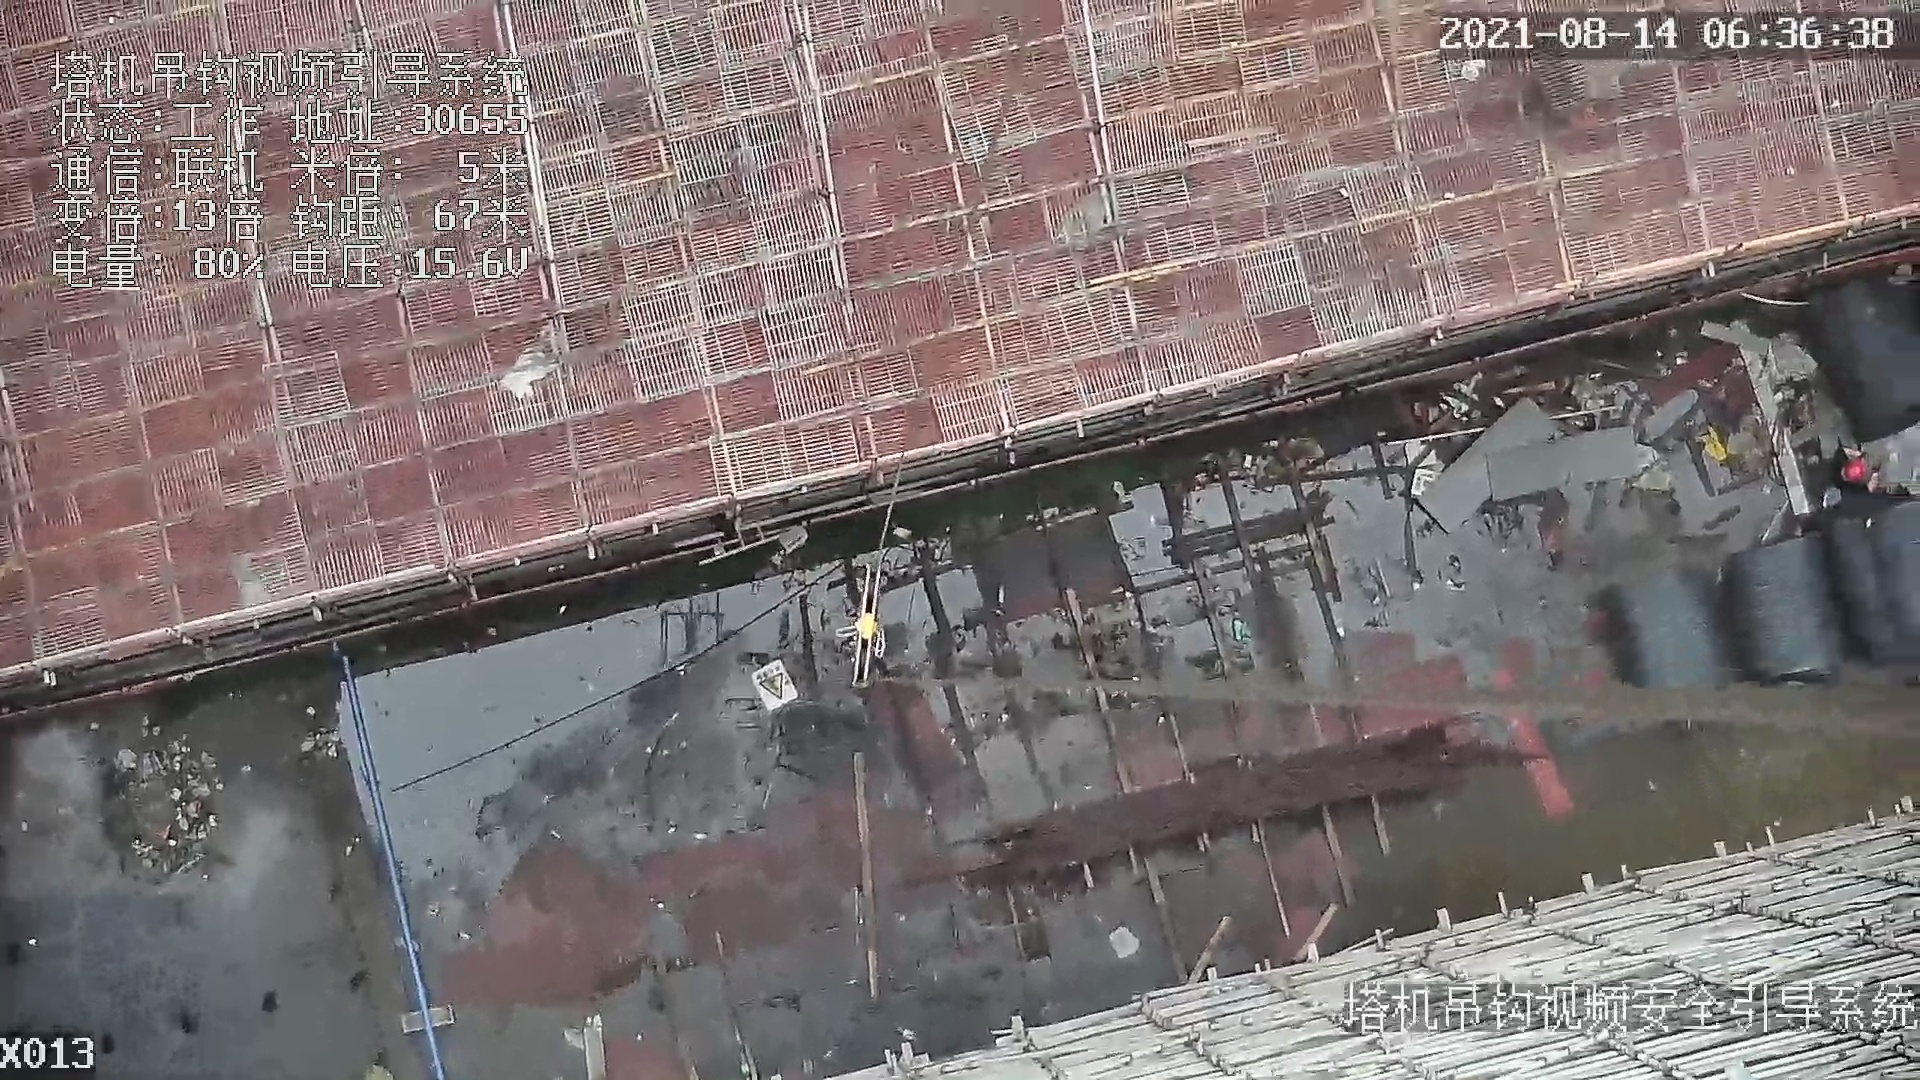helmet: (1845, 454, 1870, 483)
hook: (835, 562, 881, 686)
